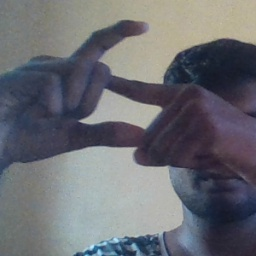E: (67, 15, 177, 163)
